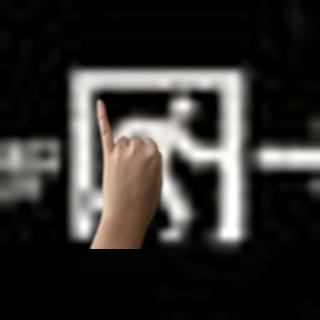Fine: (83, 95, 174, 252)
